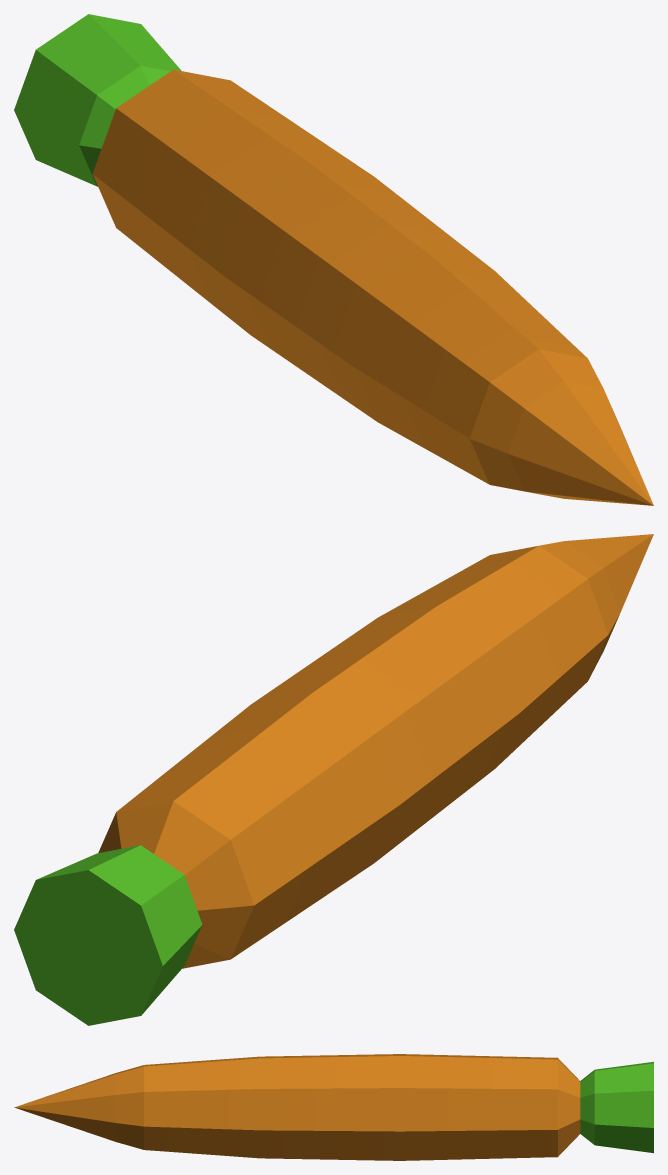
The model's file is BakuUsa.fbx.
The picture shows the model from 3 angles, top to bottom: view 1: azimuth 30°, elevation 25°; view 2: azimuth 150°, elevation 25°; view 3: azimuth 270°, elevation 25°; orthographic projection. The views are drawn at different scales.
Parts seen in each view (by area): view 1: BakuUsa; view 2: BakuUsa; view 3: BakuUsa.
Boxes of the visible parts, left/top/right/bottom form: BakuUsa: left=14, top=14, right=653, bottom=505; BakuUsa: left=14, top=534, right=653, bottom=1025; BakuUsa: left=14, top=1054, right=653, bottom=1160.
Bounding box in the file's own units: 0.7935 × 0.7935 × 4.46.
